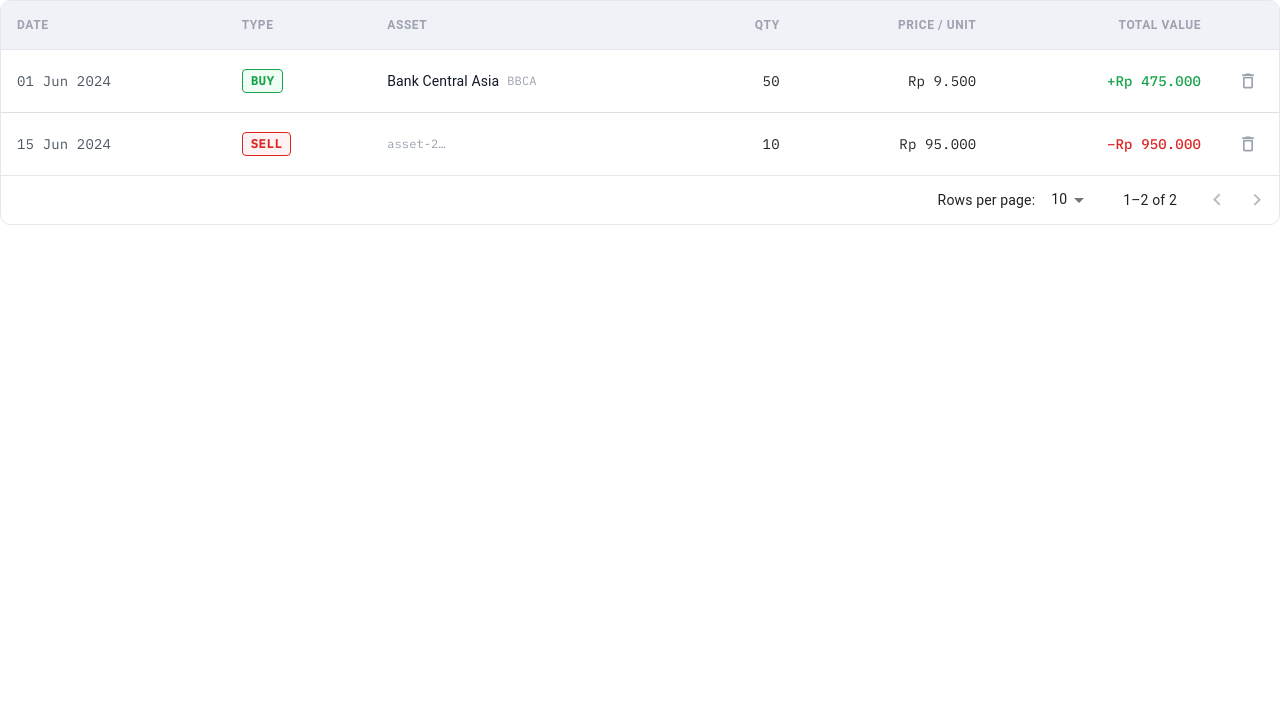
Test: TransactionTable — with data › closes the delete dialog when Cancel is clicked
Step 1. Click the button without text in the row of "01 Jun 2024" → click(1248, 81), box [1233,66,1263,96]
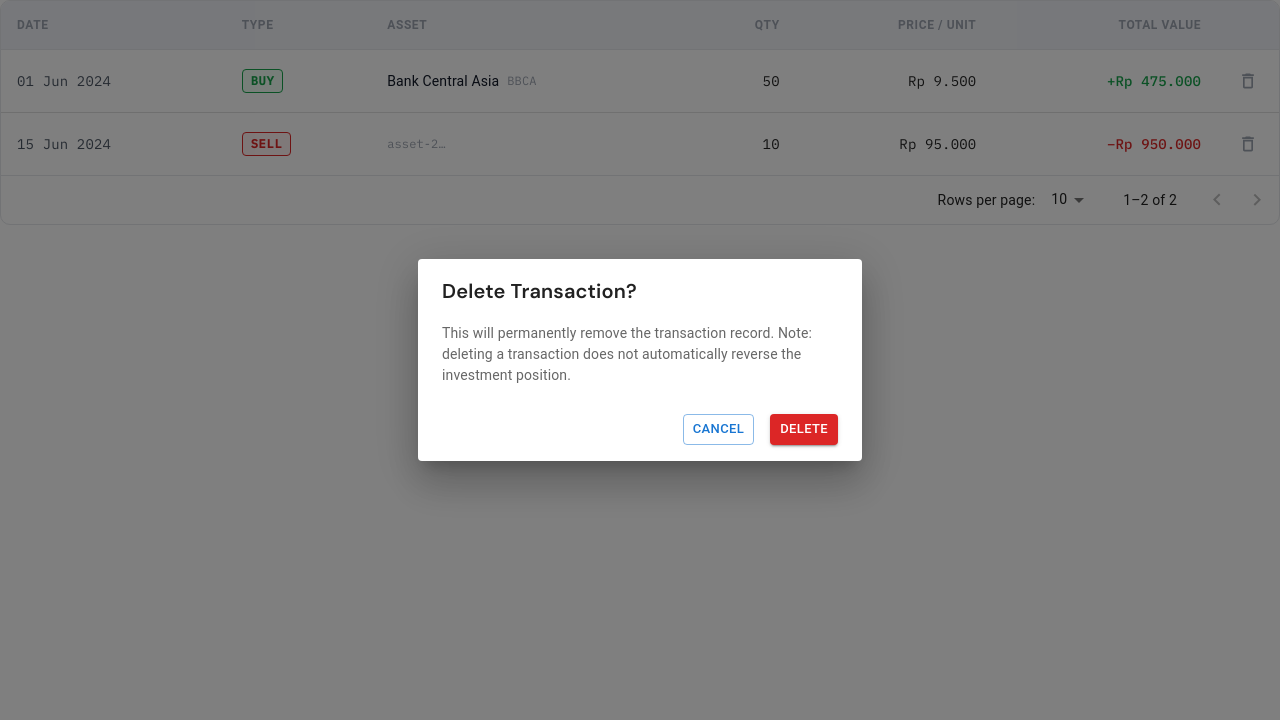
Step 2. Click the button "Cancel" → click(718, 430), box [683,414,754,445]
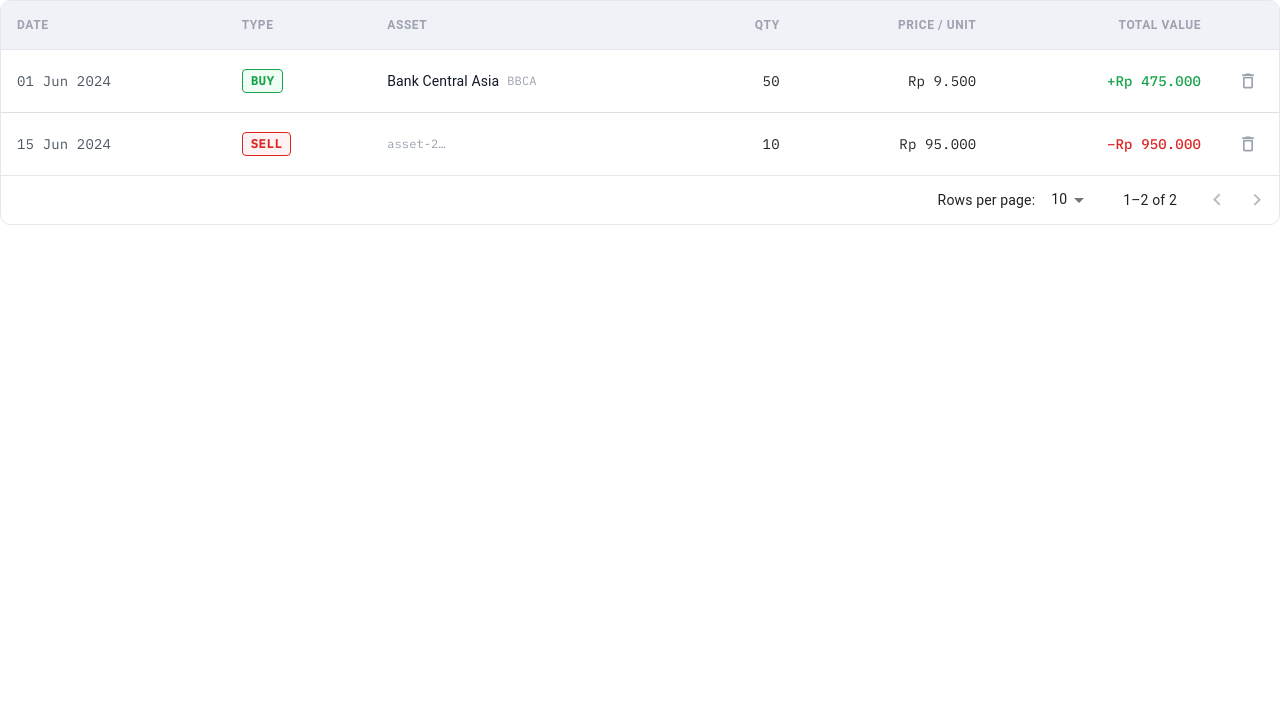
Now the heading "Delete Transaction?" is gone
